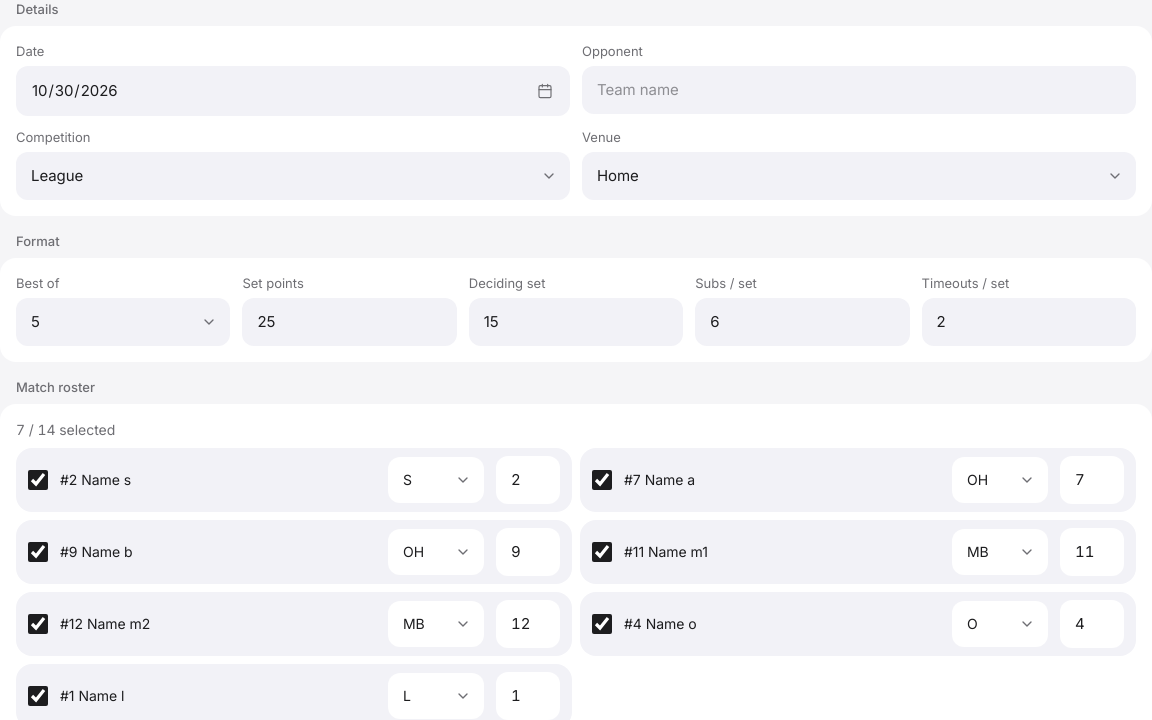
Test case: MatchSetupForm › highlights duplicate numbers live and disables submit
Check: the text "#7 Name a" is shown, box 624,471 -> 695,488
Check: the text "Duplicate #" is not shown
Step 1. Replace the text in the number field named "Number for Name b" with "7" → point(528, 552), box 496,528 -> 560,576
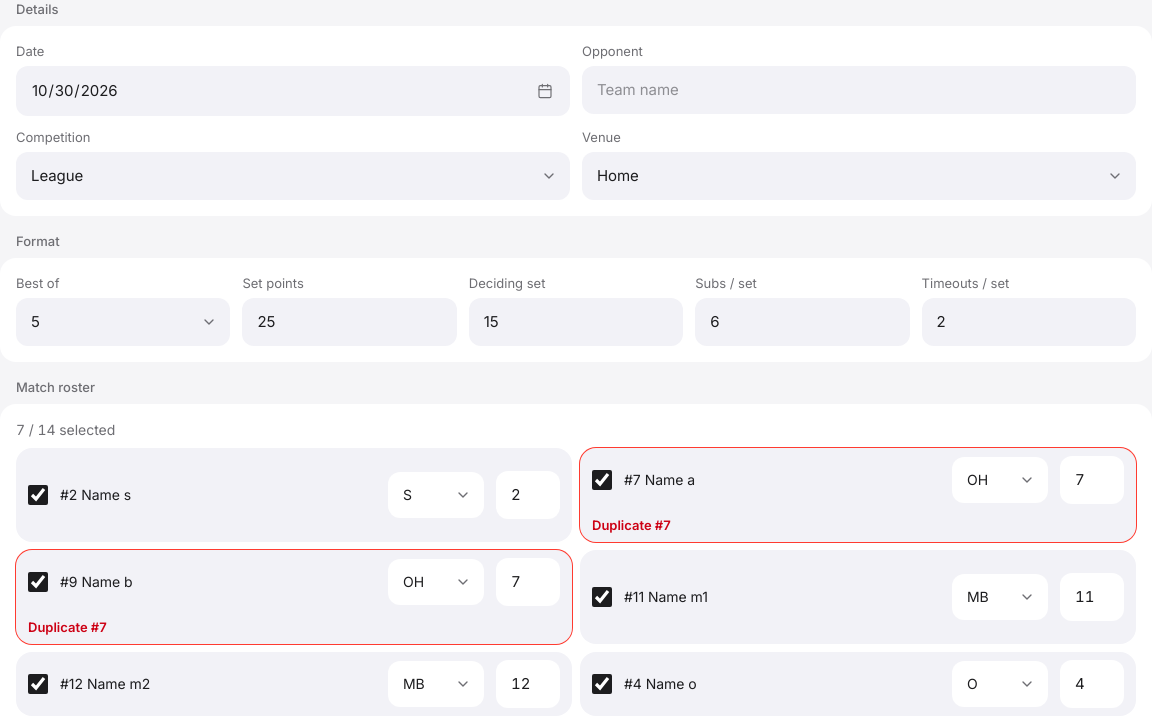
Check: the text "Duplicate #7" is shown 2 times, box 592,517 -> 671,533; 28,619 -> 107,635
Step 2. Click the checkbox named "Include Name b" → point(38, 582), box 28,572 -> 48,592
(page scrolled)
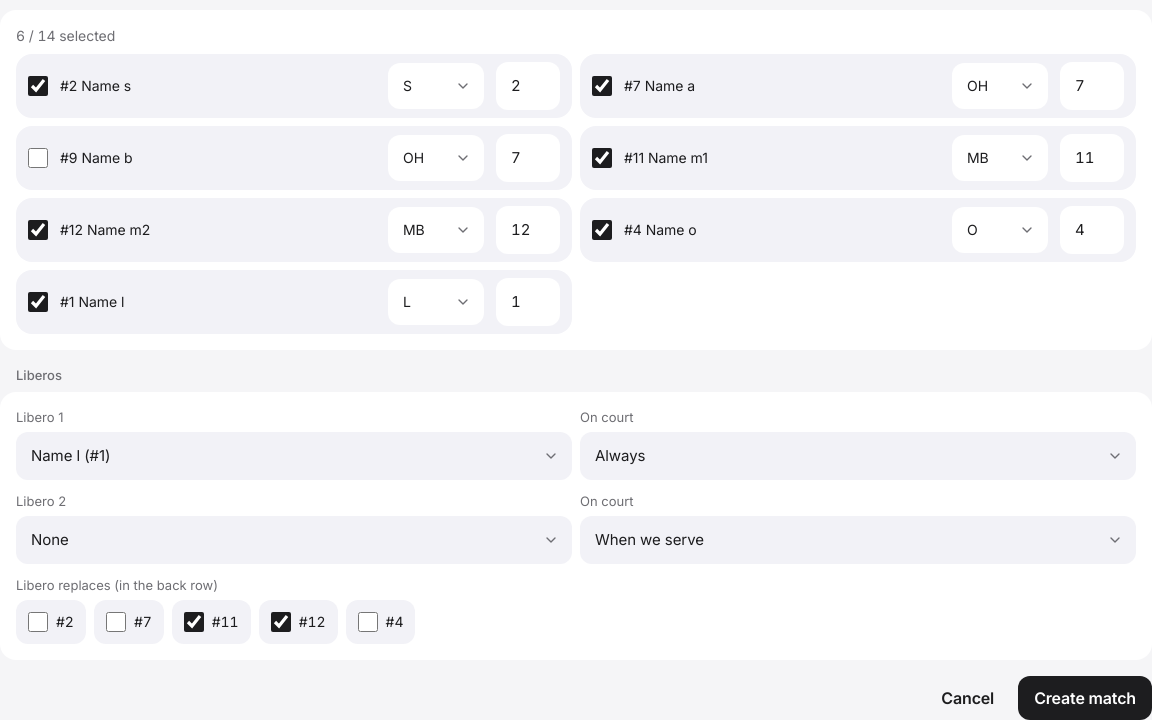
Check: the text "Duplicate #" is gone
Check: the button "Create match" is enabled, box 1018,676 -> 1151,719
